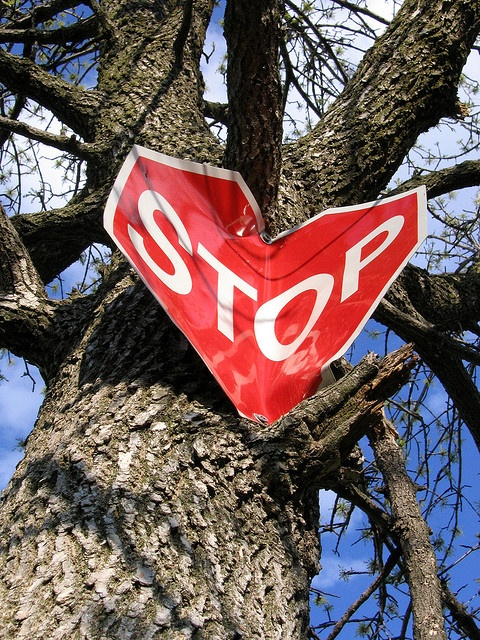Stop Signal: (93, 126, 460, 459)
